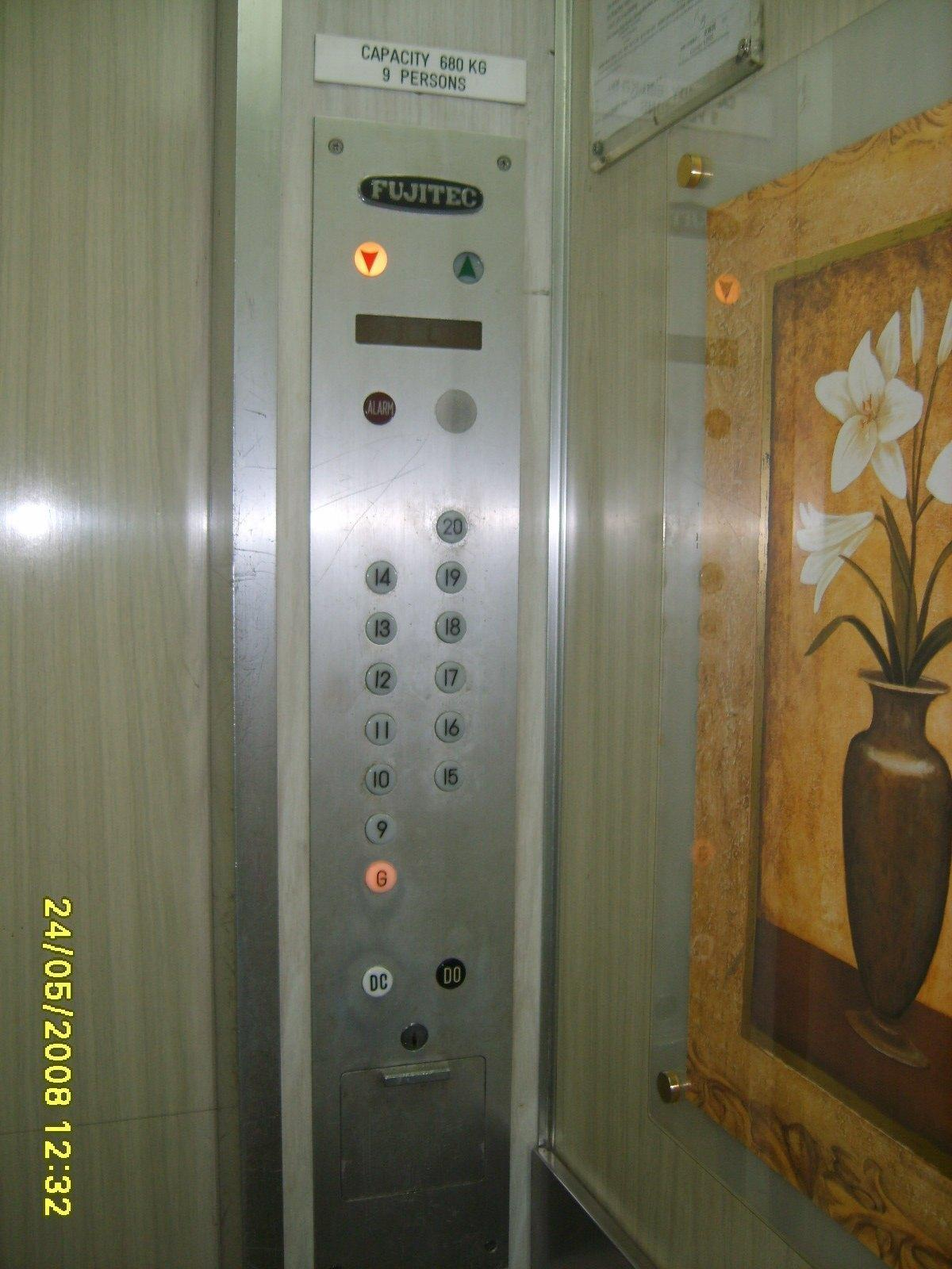10: (363, 760, 399, 796)
11: (362, 711, 398, 746)
12: (363, 661, 399, 696)
13: (363, 609, 399, 645)
14: (363, 558, 399, 594)
15: (432, 757, 468, 793)
16: (432, 709, 468, 745)
17: (432, 658, 469, 693)
18: (432, 608, 469, 644)
19: (433, 558, 470, 594)
20: (434, 508, 470, 543)
9: (362, 811, 398, 846)
G: (363, 858, 400, 894)
alarm: (360, 389, 397, 425)
down: (353, 240, 387, 277)
keyhole: (397, 1019, 428, 1053)
unknown: (432, 385, 478, 435), (434, 955, 466, 989), (362, 964, 393, 999)
up: (450, 248, 484, 286)
